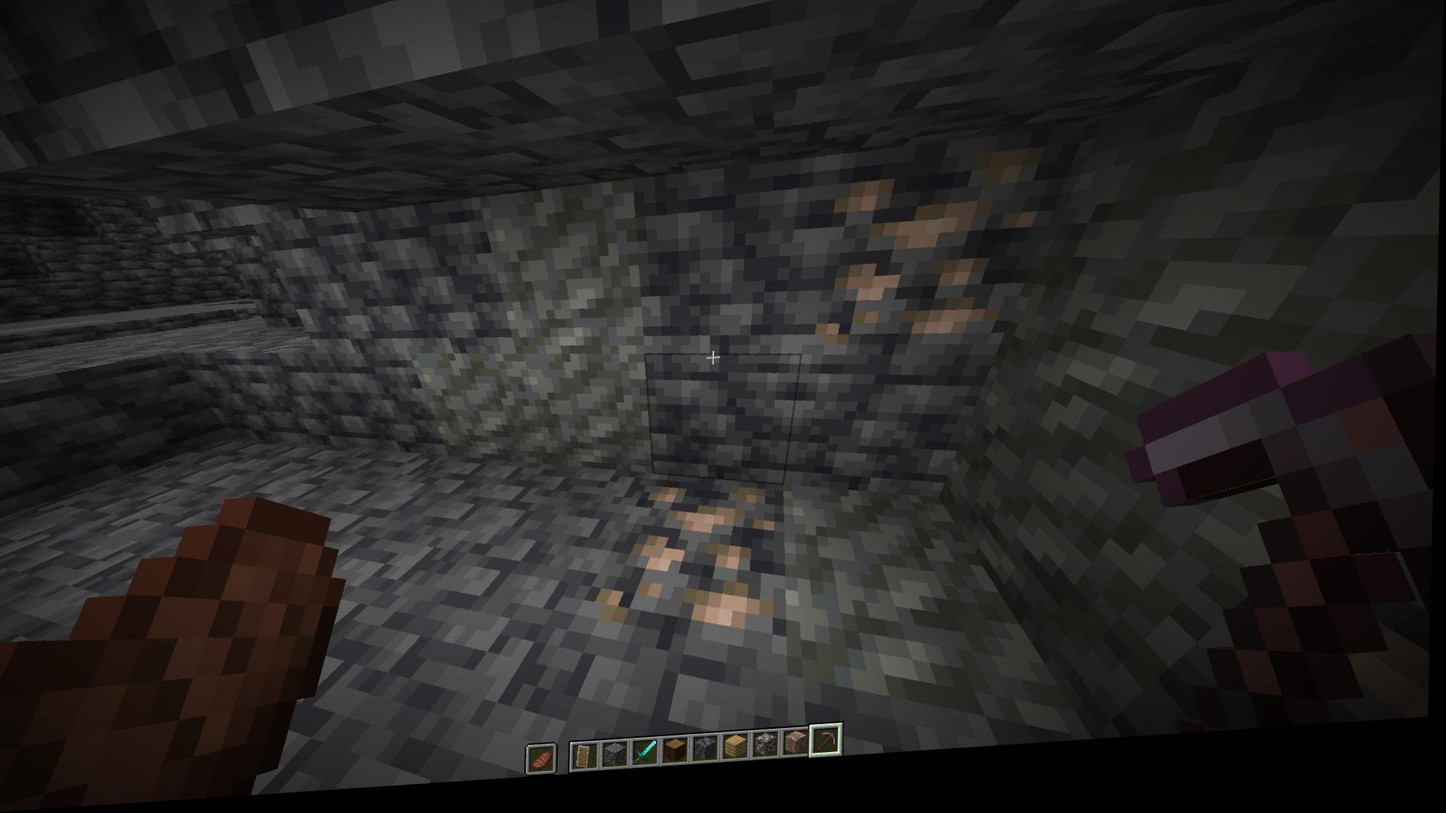iron ore: (811, 150, 1040, 359), (615, 481, 800, 642)
